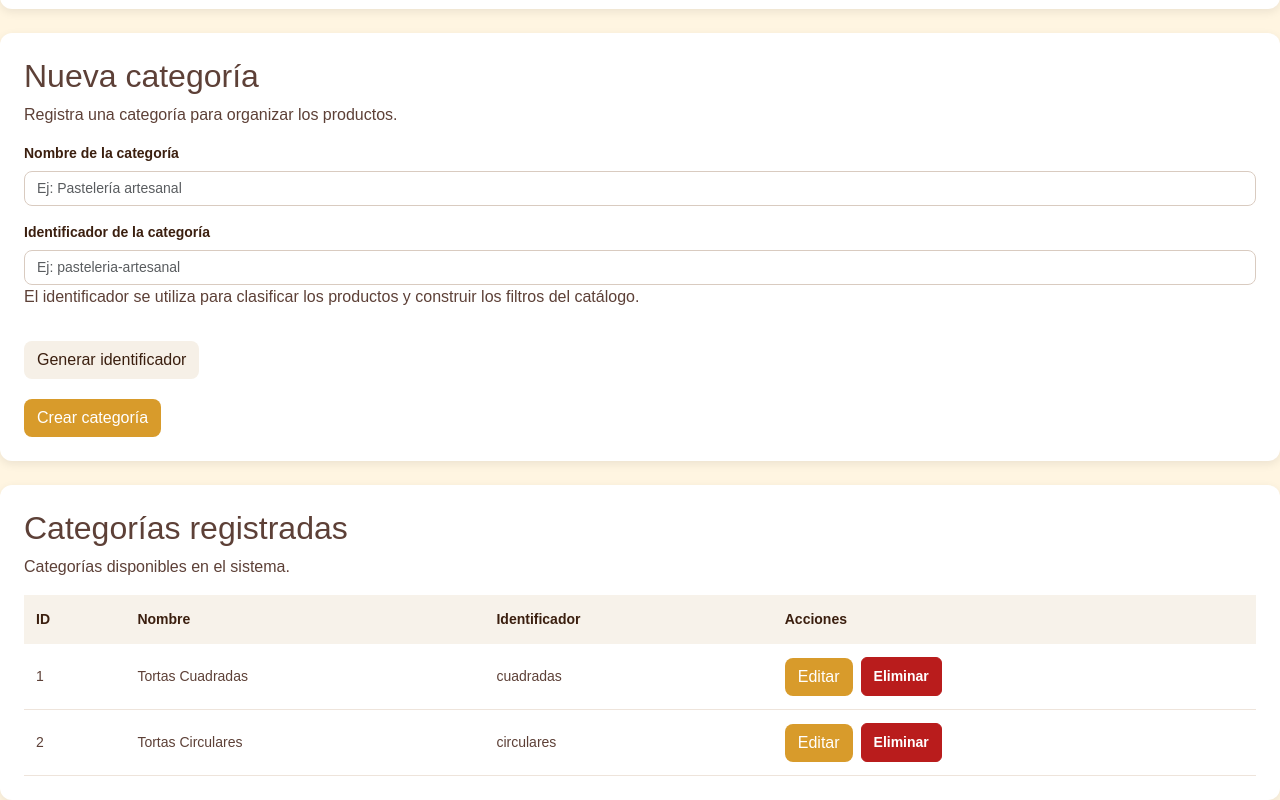
Test: C3-09 - Administración de categorías › elimina una categoría después de confirmar
(page scrolled)
expect the text "Tortas Cuadradas" is shown: met, box [125,644,484,710]
What coordinates should you click on to do the following:
click the button with aria-label "Eliminar Tortas Circulares"
I would click on:
 (901, 743)
Its box is [860,723,942,762].
(page scrolled)
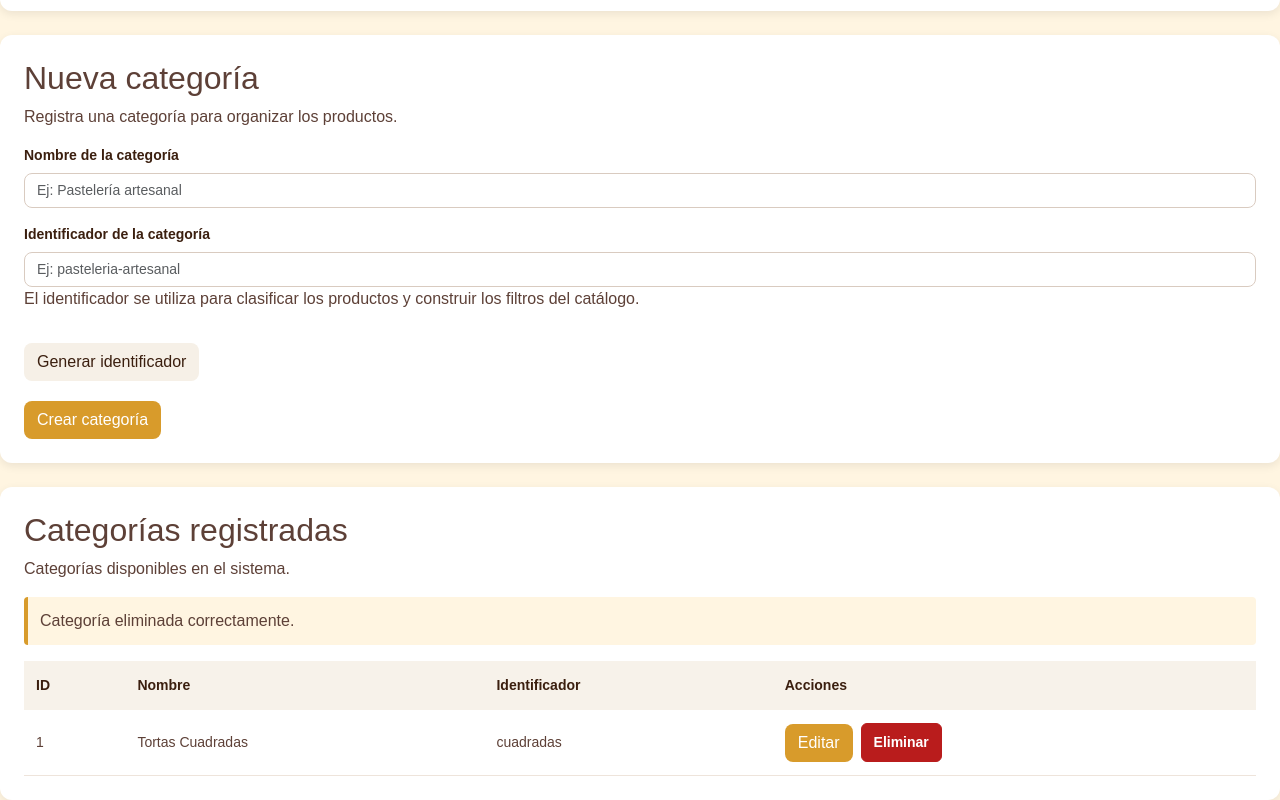
expect the text "Tortas Circulares" is gone: met
expect the text "Categoría eliminada correctamente." is shown: met, box [24,597,1256,645]
